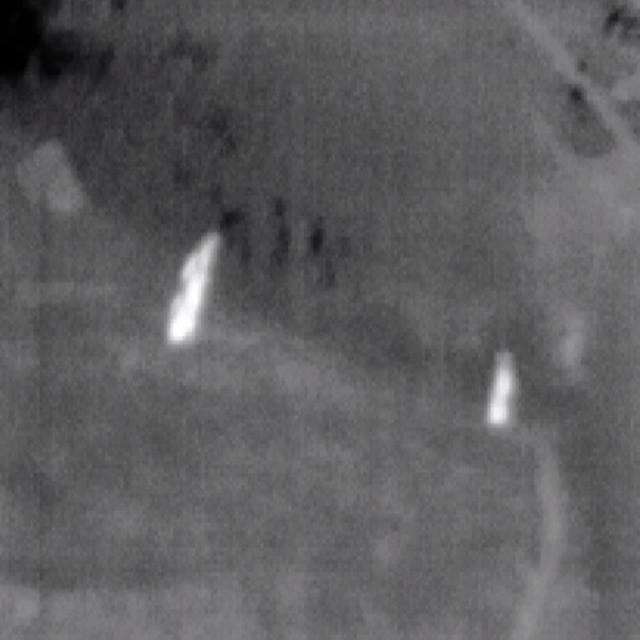cheetah: (170, 235, 217, 341), (488, 352, 515, 424)
